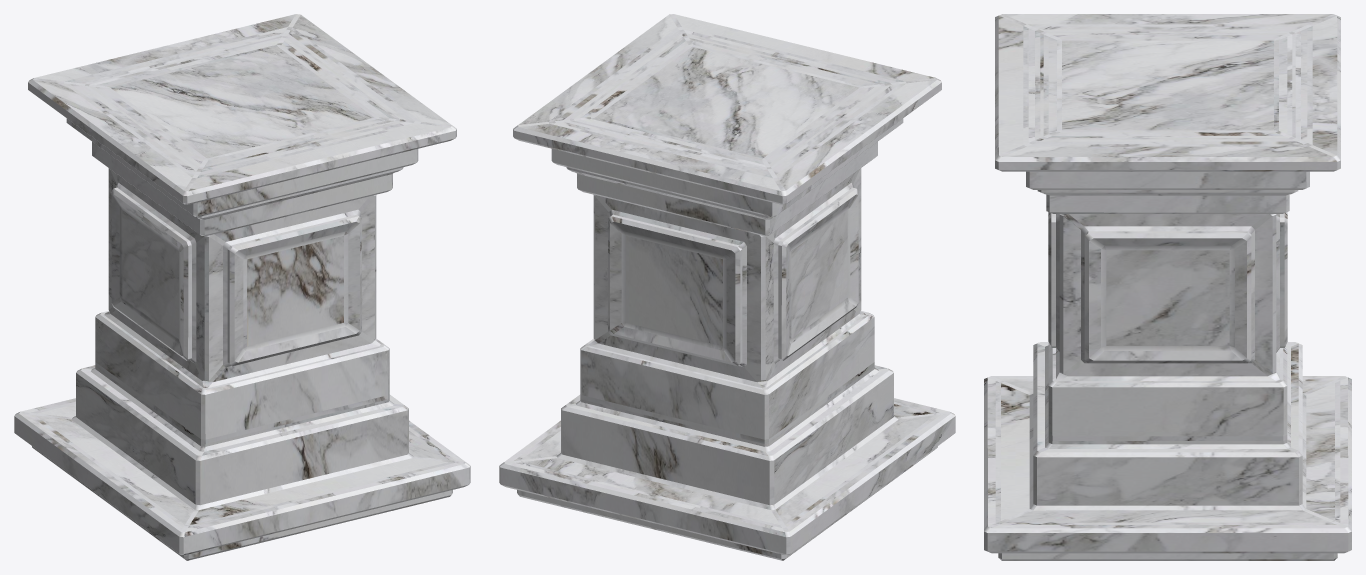
Rendered from pedestal_with_texture.fbx.
3 views of the same model, side by side, from view 1: azimuth 30°, elevation 25°; view 2: azimuth 150°, elevation 25°; view 3: azimuth 270°, elevation 25° (orthographic). The views are drawn at different scales.
Parts seen in each view (by area): view 1: Pedestal; view 2: Pedestal; view 3: Pedestal.
Part boxes in pixels (left/top/right/bottom): Pedestal: left=14, top=14, right=470, bottom=560; Pedestal: left=499, top=14, right=955, bottom=560; Pedestal: left=984, top=14, right=1351, bottom=560.
Bounding box in the file's own units: 0.094 × 0.1143 × 0.094.
Materials: 1 (1 with a texture image).
